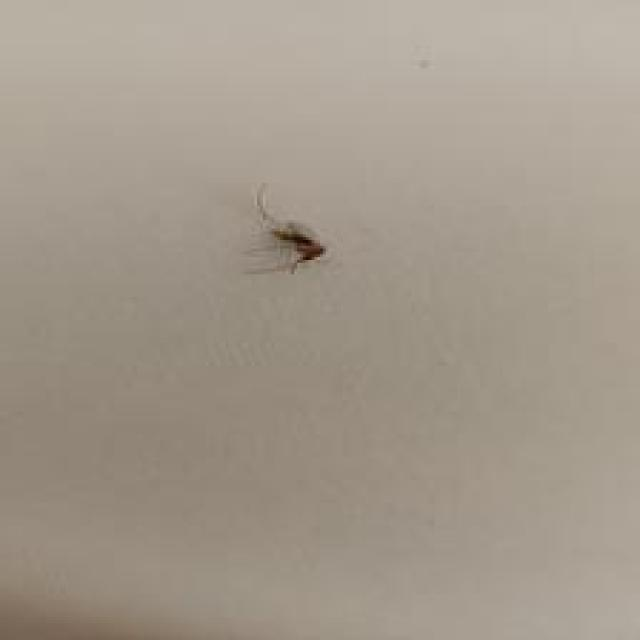Culex: (244, 181, 327, 276)
